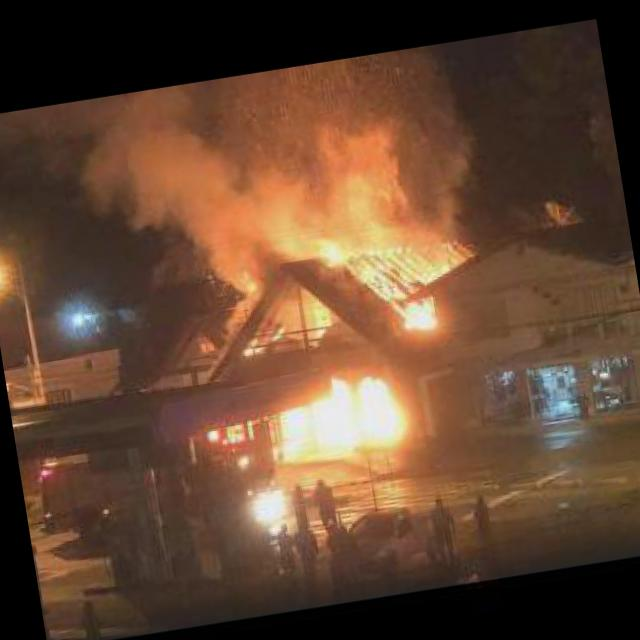fire: (270, 364, 406, 458), (316, 220, 464, 302), (392, 288, 435, 332), (244, 324, 288, 356), (233, 266, 256, 292)
smoke: (0, 39, 498, 306)
